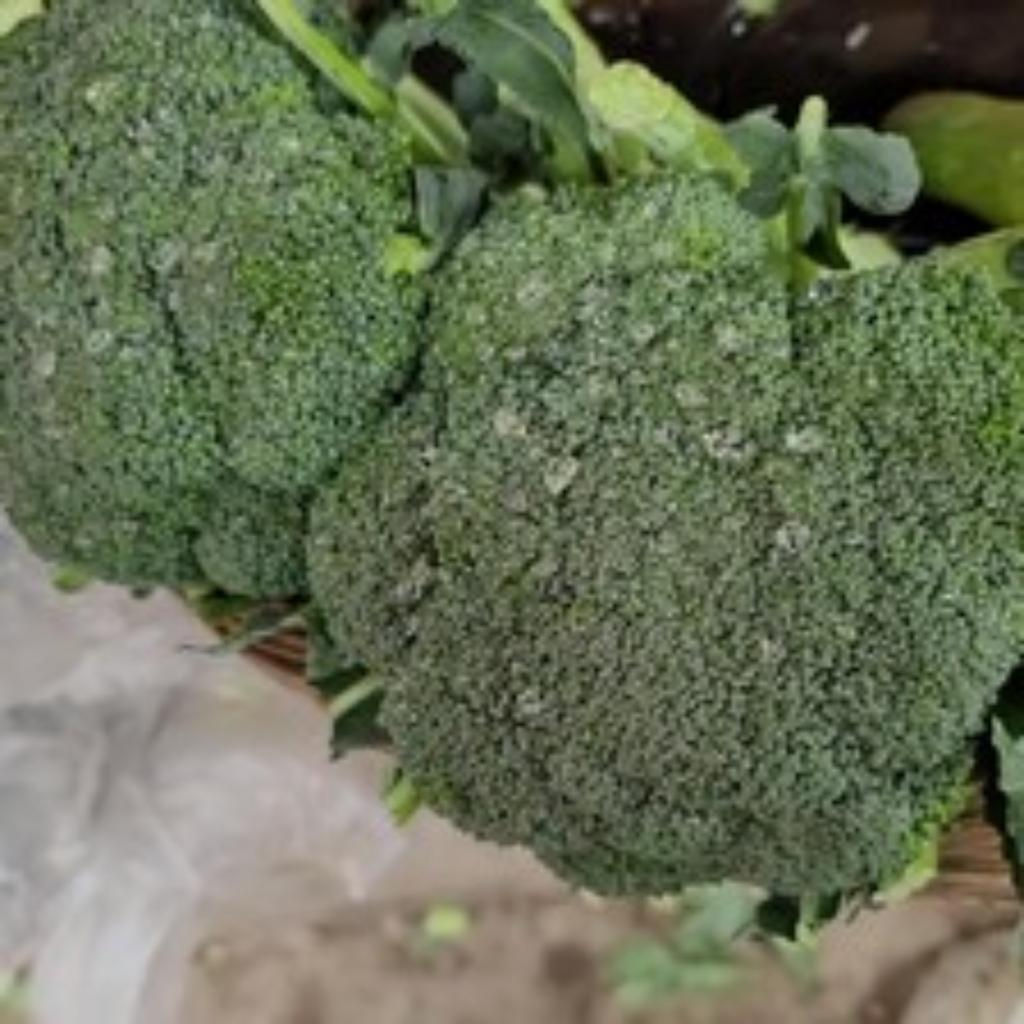Broccoli: (314, 180, 1020, 909), (312, 180, 1020, 899), (0, 0, 418, 593), (0, 0, 416, 593)
